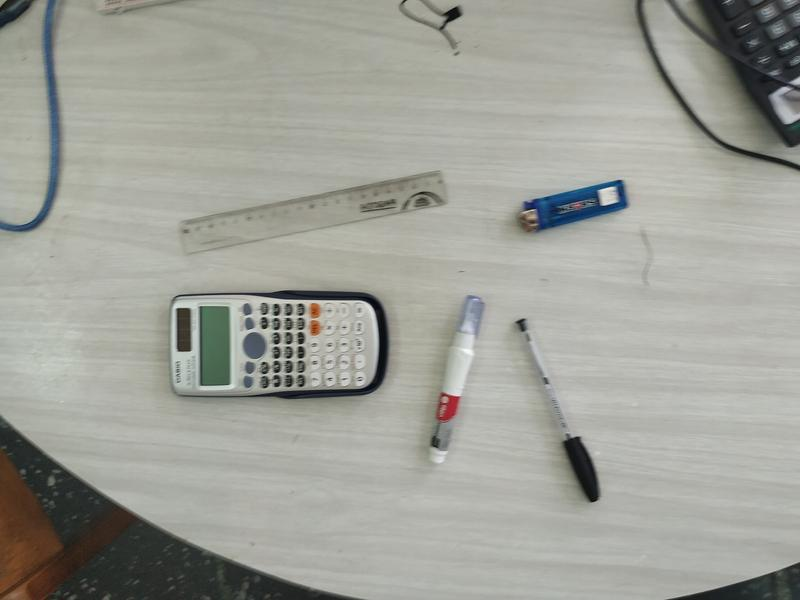calculadora: (163, 278, 395, 402)
corrector: (417, 284, 496, 467)
encendedor: (505, 175, 633, 239)
lapicera: (505, 308, 612, 507)
regla: (176, 156, 450, 264)
